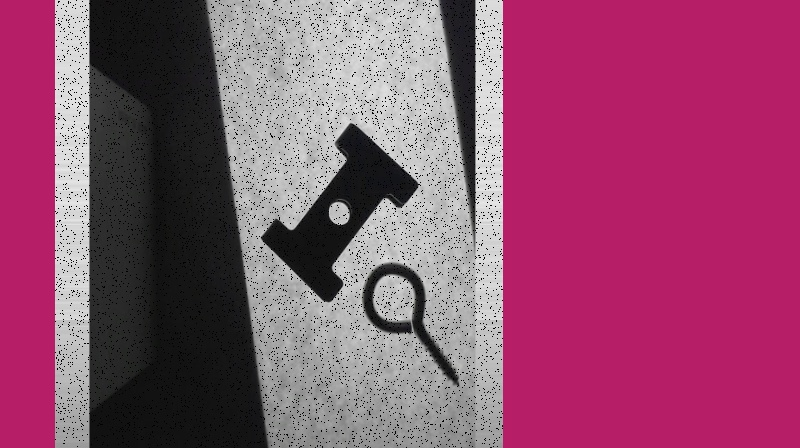O001: (360, 259, 460, 391)
O002: (257, 113, 418, 302)
